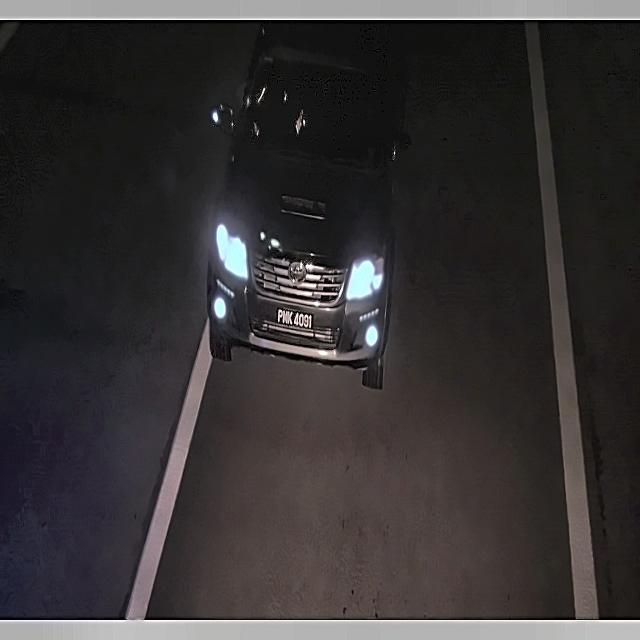car: (272, 302, 316, 332)
